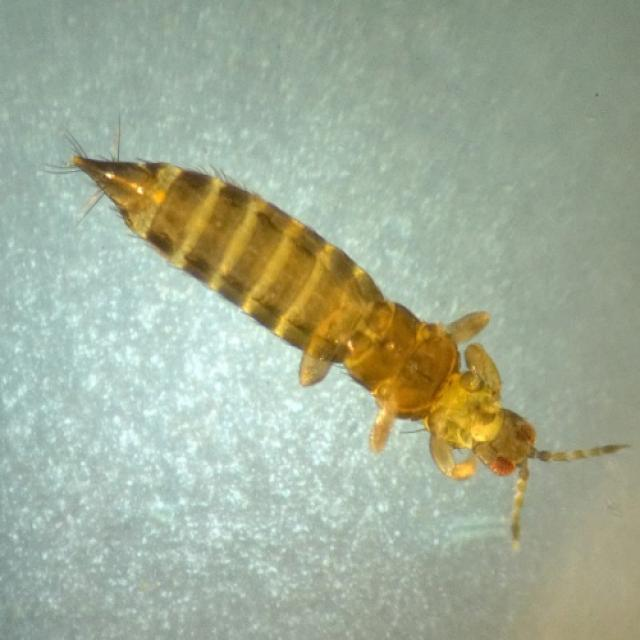Thrip-Adult-: (45, 113, 607, 536)
